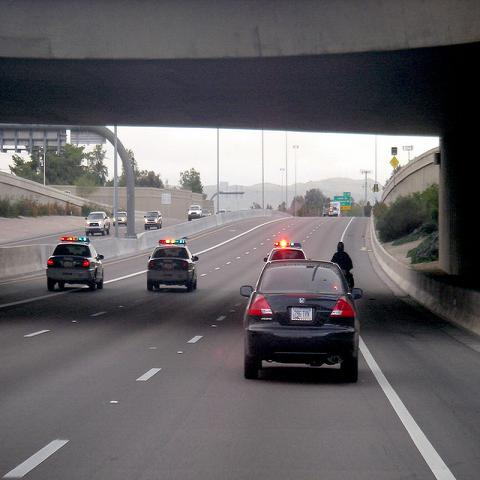car: (241, 258, 363, 384), (46, 238, 104, 292), (146, 238, 200, 292), (263, 242, 308, 265), (84, 211, 110, 238), (144, 210, 163, 230), (188, 204, 202, 221), (114, 211, 128, 227), (322, 203, 330, 217), (329, 206, 338, 217), (202, 209, 212, 218), (216, 209, 232, 214)
motorcycle: (342, 270, 354, 289)
